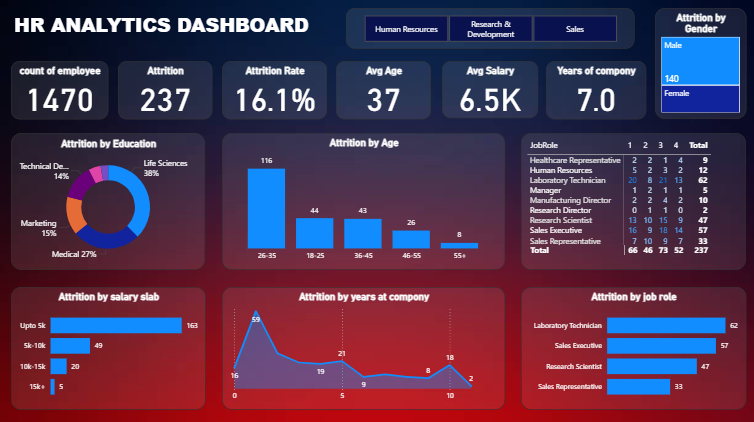

What the dashboard file says about the page in this screenshot:
{"tool":"powerbi","page":{"name":"Page 1","canvas":[1280,720],"ordinal":0},"visuals":[{"type":"card","title":"count of employee","fields":{"Values":["CountNonNull(HR_Analytics.EmpID)"]},"box":[20.2,105.8,164.6,99.1],"z":0},{"type":"card","title":"Attrition Rate","fields":{"Values":["HR_Analytics.AttritionRate"]},"box":[378,105.8,178.1,99.1],"z":1000},{"type":"card","title":"Avg Age","fields":{"Values":["Avg(HR_Analytics.Age)"]},"box":[571.1,105.8,161.3,99.1],"z":2000},{"type":"card","title":"Attrition","fields":{"Values":["Sum(HR_Analytics.Attritioncount)"]},"box":[201.6,105.8,159.6,99.1],"z":3000},{"type":"card","title":"Avg Salary","fields":{"Values":["Avg(HR_Analytics.MonthlyIncome)"]},"box":[750.9,105.8,162.9,97.4],"z":4000},{"type":"card","title":"Years of compony","fields":{"Values":["Avg(HR_Analytics.YearsAtCompany)"]},"box":[927.2,105.8,169.7,99.1],"z":5000},{"type":"donutChart","title":"Attrition by Education","fields":{"Category":["HR_Analytics.EducationField"],"Y":["Sum(HR_Analytics.Attritioncount)"]},"box":[20.2,226.8,329.2,231.8],"z":6000},{"type":"columnChart","title":"Attrition by Age","fields":{"Category":["HR_Analytics.AgeGroup"],"Y":["Sum(HR_Analytics.Attritioncount)"]},"box":[378.3,226.7,480,231.7],"z":7000},{"type":"pivotTable","fields":{"Rows":["HR_Analytics.JobRole"],"Columns":["HR_Analytics.JobSatisfaction"],"Values":["Sum(HR_Analytics.Attritioncount)"]},"box":[885.2,226.8,381.3,231.8],"z":8000},{"type":"barChart","title":"Attrition by salary slab","fields":{"Category":["HR_Analytics.SalarySlab"],"Y":["Sum(HR_Analytics.Attritioncount)"]},"box":[20,488.3,330,208.3],"z":9000},{"type":"barChart","title":"Attrition by job role","fields":{"Category":["HR_Analytics.JobRole"],"Y":["Sum(HR_Analytics.Attritioncount)"]},"box":[885,488.3,381.7,208.3],"z":10000},{"type":"areaChart","title":"Attrition by years at compony","fields":{"Category":["HR_Analytics.YearsAtCompany"],"Y":["Sum(HR_Analytics.Attritioncount)"]},"box":[378.3,488.3,480,208.3],"z":11000},{"type":"treemap","title":"Attrition by Gender","fields":{"Group":["HR_Analytics.Gender"],"Values":["Sum(HR_Analytics.Attritioncount)"]},"box":[1112,15.1,154.5,188.1],"z":12000},{"type":"slicer","fields":{"Values":["HR_Analytics.Department"]},"box":[587.9,15.1,488.8,68.9],"z":13000},{"type":"textbox","box":[20.2,15.1,551,68.9],"z":14000}]}

Visuals, with their boxes in screenshot pixels (x1, y1, x2, y2), scaled from the page's 1280x720 canvas onto the 754x422 screenshot:
"count of employee" card: 12,62,109,120
"Attrition Rate" card: 223,62,328,120
"Avg Age" card: 336,62,431,120
"Attrition" card: 119,62,213,120
"Avg Salary" card: 442,62,538,119
"Years of compony" card: 546,62,646,120
"Attrition by Education" donutChart: 12,133,206,269
"Attrition by Age" columnChart: 223,133,506,269
pivotTable - HR_Analytics.JobRole x HR_Analytics.JobSatisfaction: 521,133,746,269
"Attrition by salary slab" barChart: 12,286,206,408
"Attrition by job role" barChart: 521,286,746,408
"Attrition by years at compony" areaChart: 223,286,506,408
"Attrition by Gender" treemap: 655,9,746,119
slicer - HR_Analytics.Department: 346,9,634,49
textbox: 12,9,336,49
